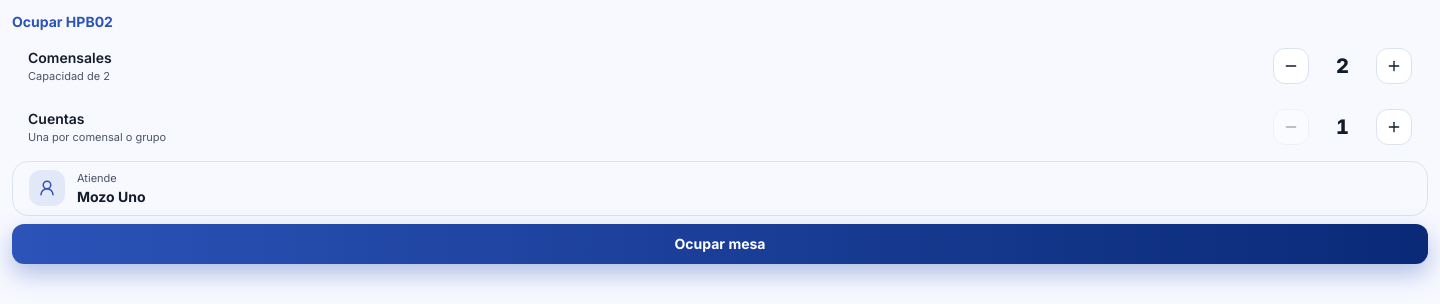
it: FormularioOcupar › las cuentas no pueden superar a los comensales (regla del sistema antiguo)
What coordinates should you click on to do the following:
click the button named "más cuentas"
I would click on:
 (1394, 127)
Its box is 1376,109 -> 1412,145.
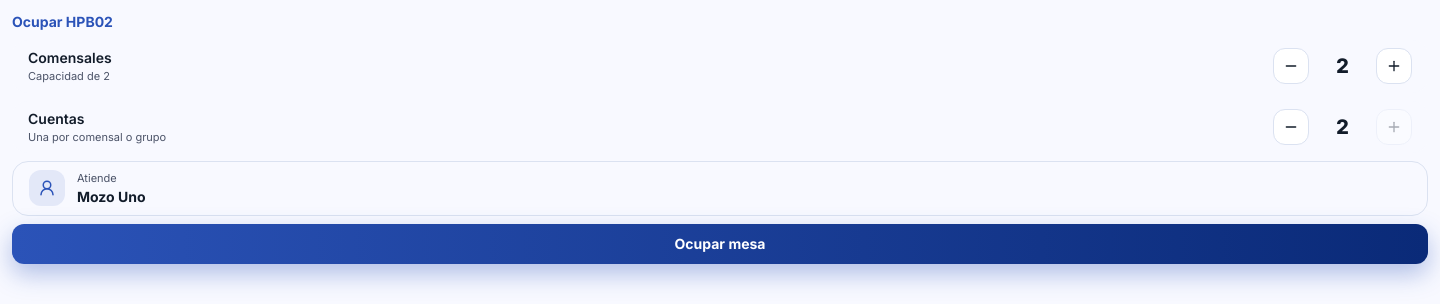
Check: the button named "más cuentas" is disabled, box 1376,109 -> 1412,145
What coordinates should you click on to do the following:
click the button named "menos comensales"
I would click on:
 (1291, 66)
Its box is 1273,48 -> 1309,84.
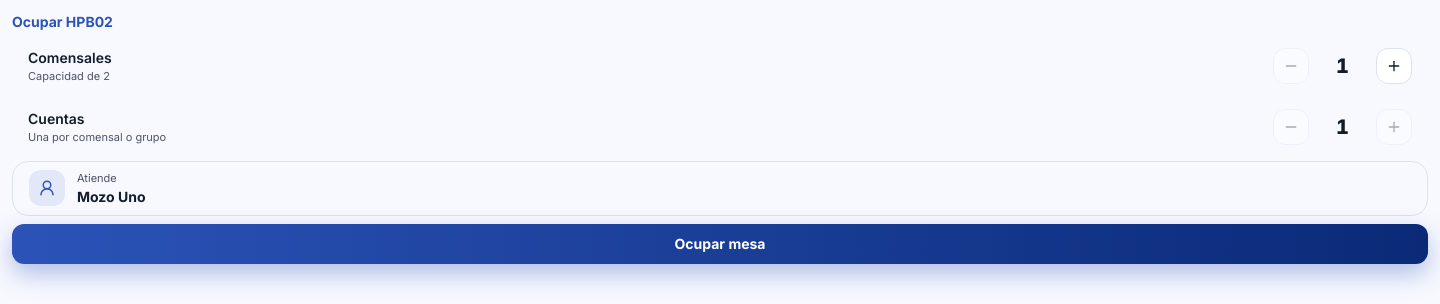
Check: the text "Capacidad de 2" is shown, box 28,68 -> 112,84
Check: the button named "más cuentas" is disabled, box 1376,109 -> 1412,145
What coordinates should you click on to do the following:
click the button named "más comensales"
I would click on:
 (1394, 66)
Its box is 1376,48 -> 1412,84.
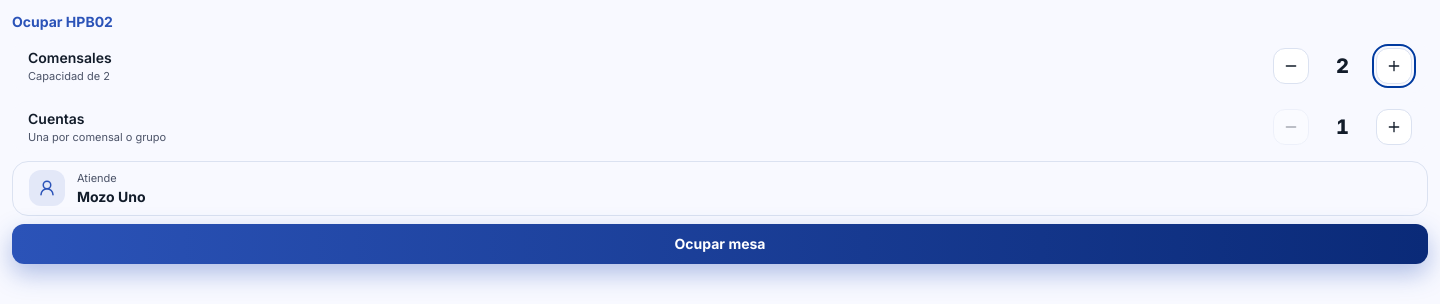
Check: the button named "más cuentas" is enabled, box 1376,109 -> 1412,145
